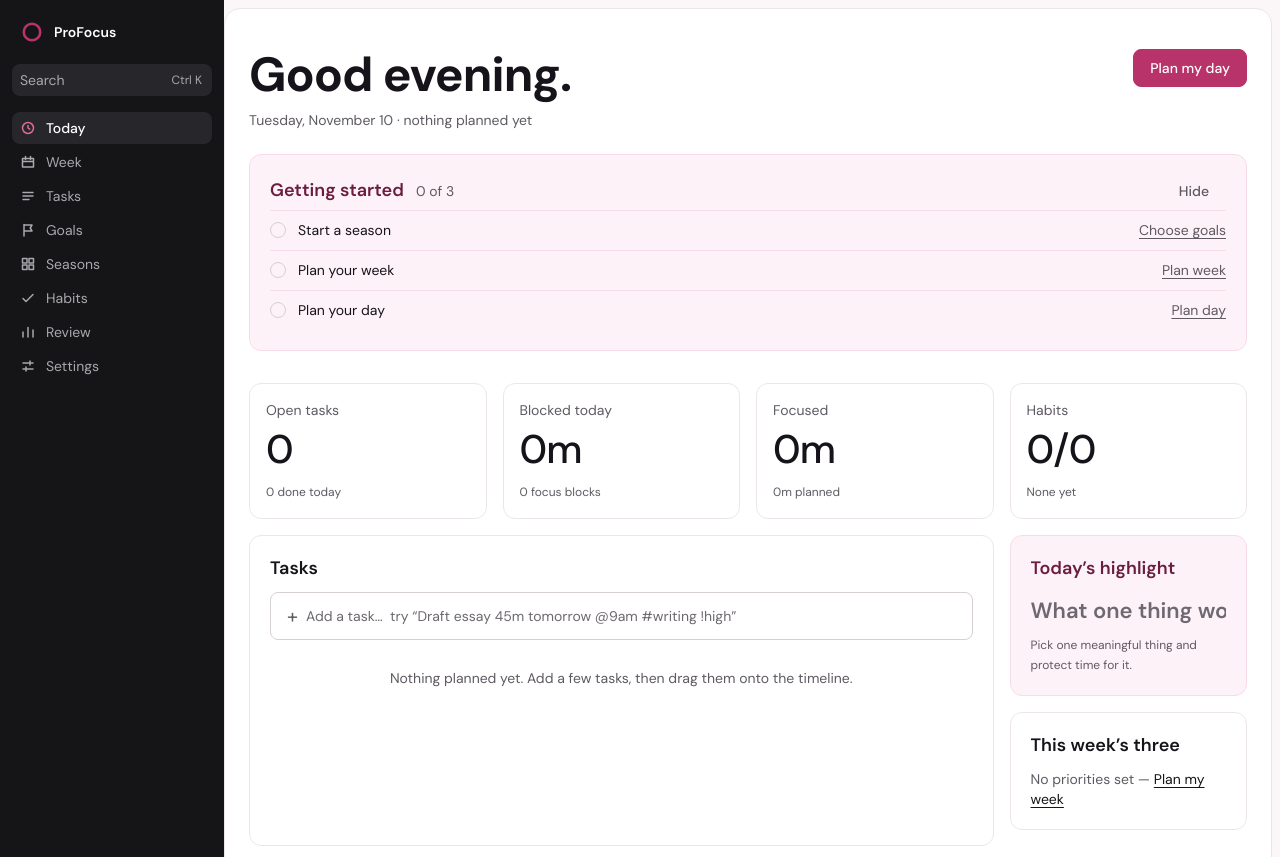
Test case: Getting started › lists the steps, ticks planned ones and hides on request
The width and height of the screenshot is (1280, 857).
Check: the text "0 of 3" is shown, box [416,181,454,201]
Click the button "Hide" at {"x": 1194, "y": 191}, box [1162,175,1226,207]
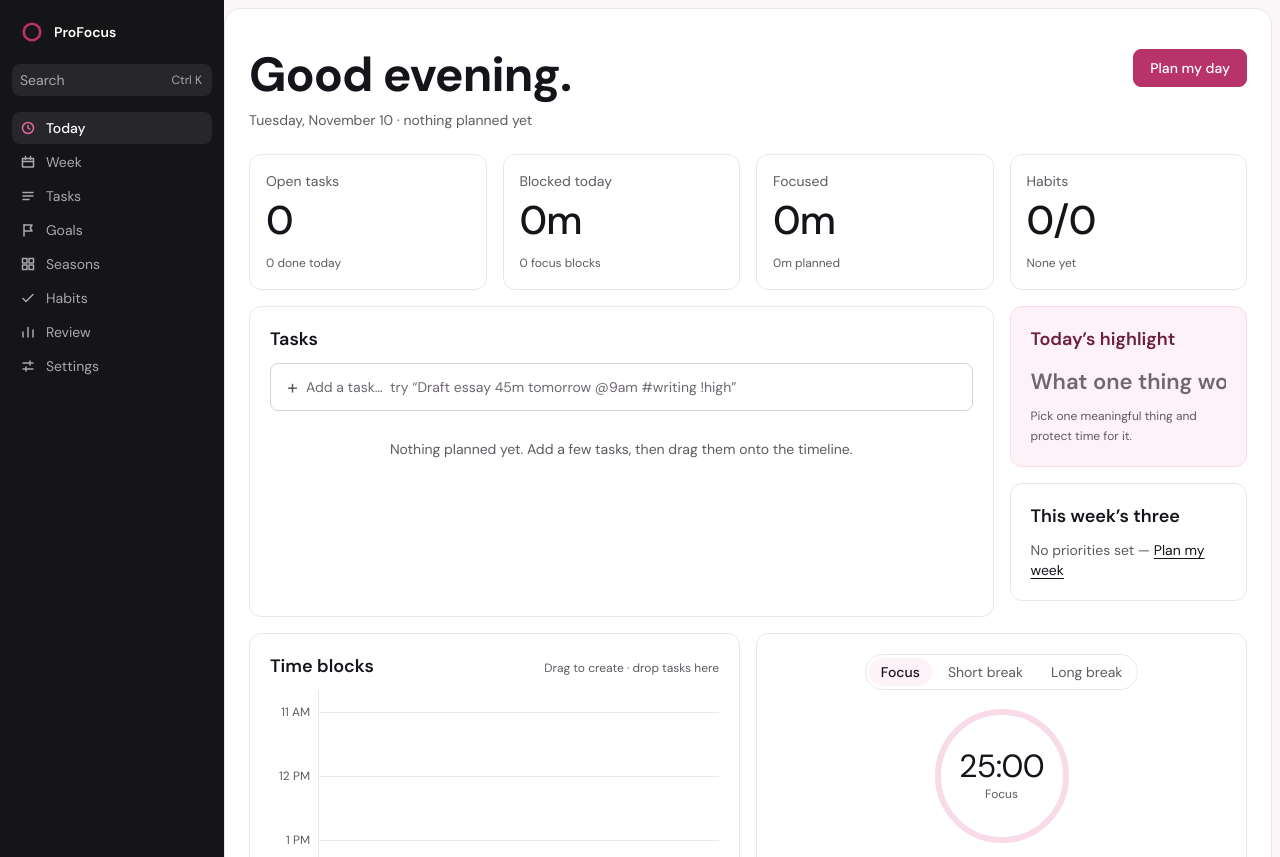
Check: the heading "Getting started" is gone
